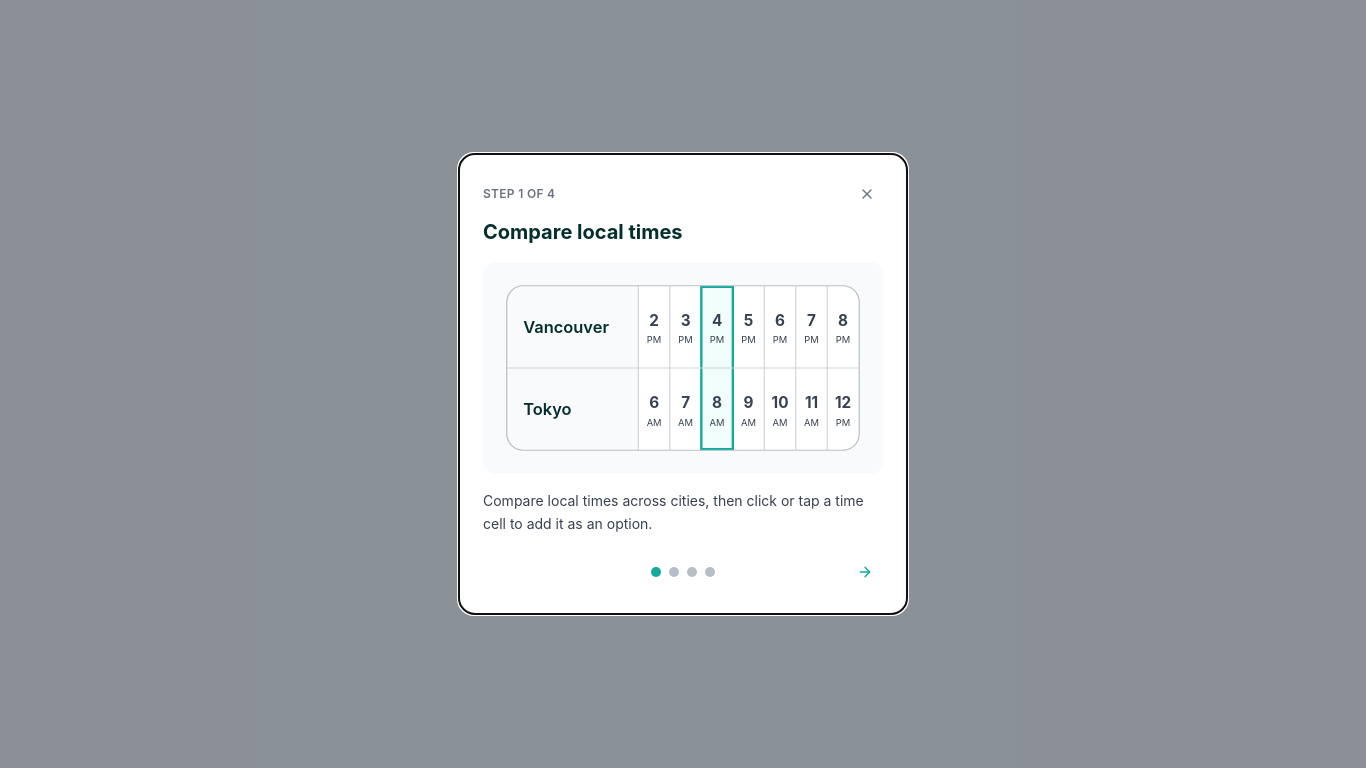
Test: HowItWorksModal › moves between steps with the navigation buttons
Expected: the dialog "Compare local times" is shown, [459, 154, 907, 614]
Expected: the text "Compare local times across cities, then click or tap a time cell to add it as an option." is shown, [483, 492, 864, 532]
Click the button named "Next step".
click(865, 572)  # box [847, 554, 883, 590]
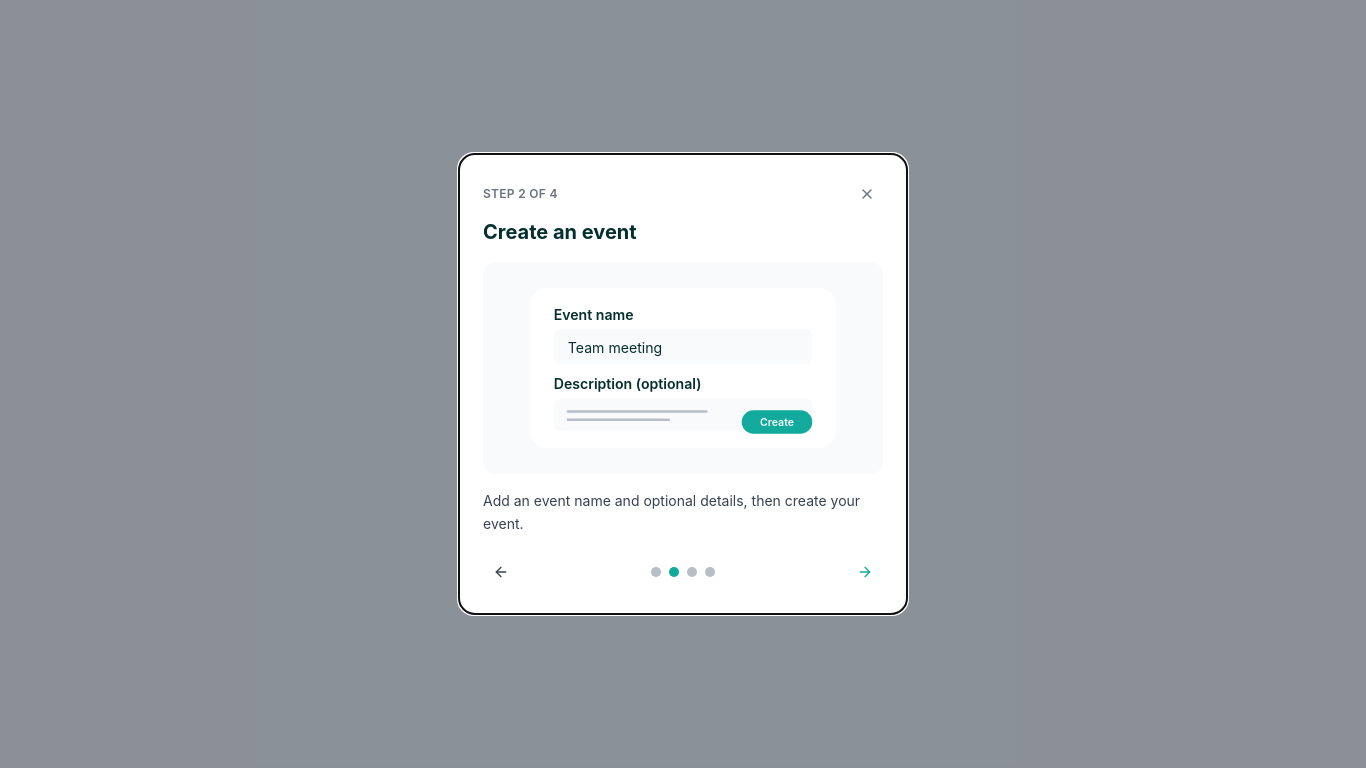
Expected: the text "Event name" is shown, [554, 306, 634, 323]
Expected: the dialog "Create an event" is shown, [459, 154, 907, 614]
Expected: the text "Add an event name and optional details, then create your event." is shown, [483, 490, 883, 538]
Click the button named "Next step".
click(865, 572)  # box [847, 554, 883, 590]
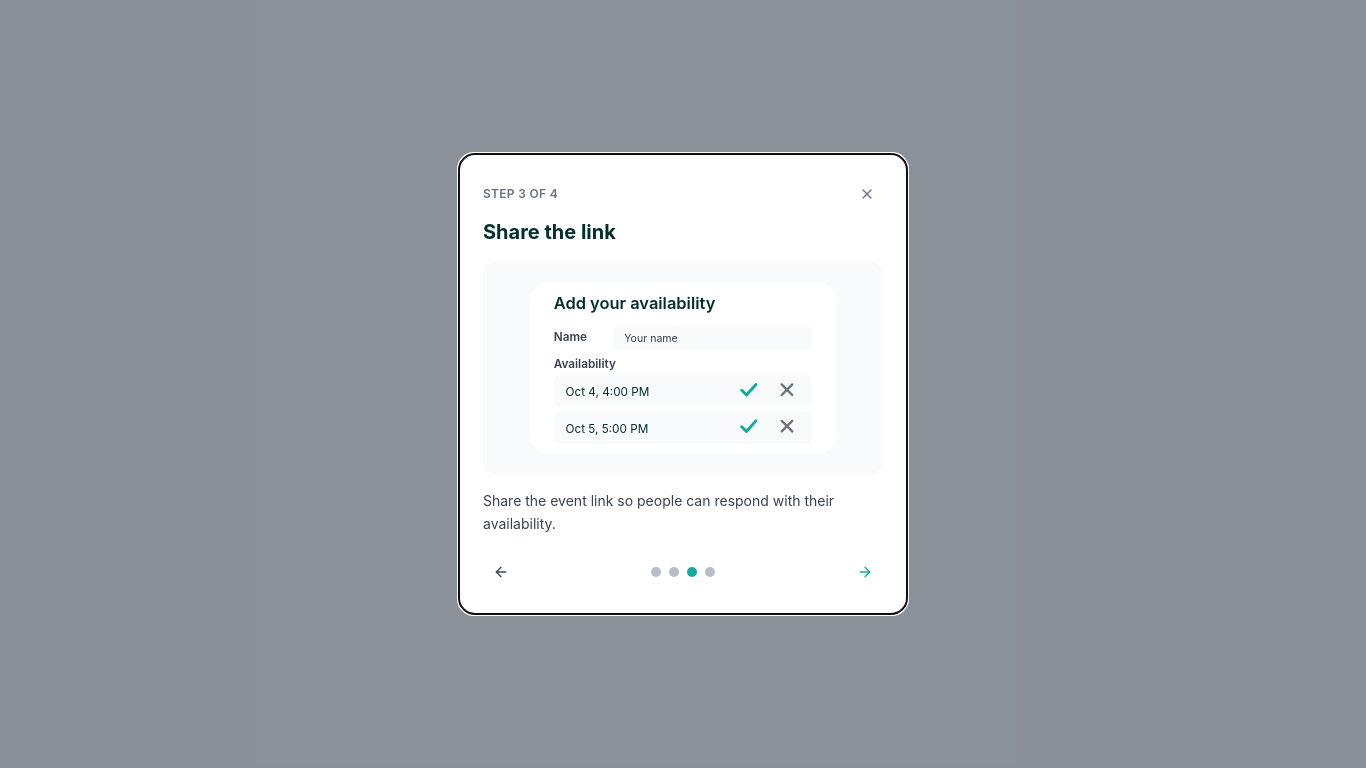
Expected: the text "Add your availability" is shown, [554, 293, 716, 313]
Expected: the dialog "Share the link" is shown, [459, 154, 907, 614]
Expected: the text "Share the event link so people can respond with their availability." is shown, [483, 490, 883, 538]
Click the button named "Next step".
click(865, 572)  # box [847, 554, 883, 590]
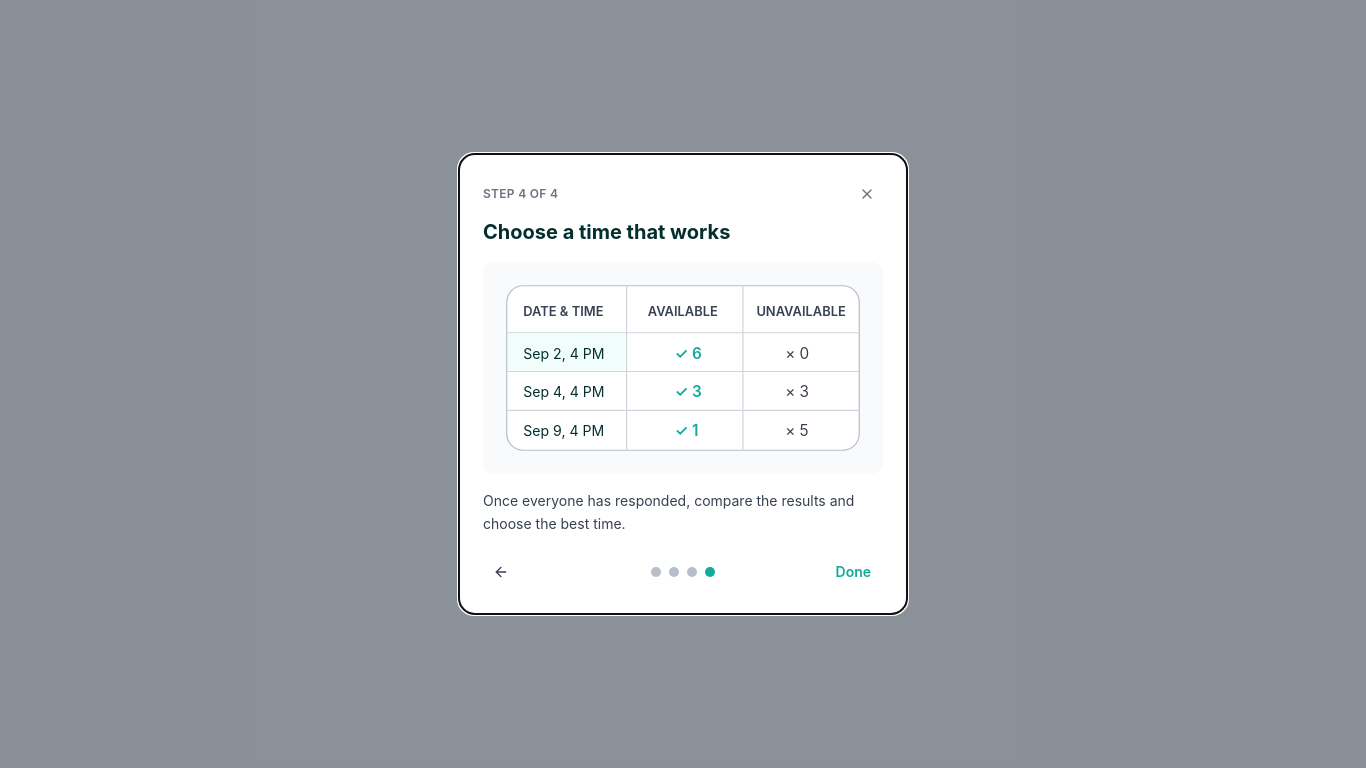
Expected: the dialog "Choose a time that works" is shown, [459, 154, 907, 614]
Click the button named "Previous step".
click(501, 572)  # box [483, 554, 519, 590]
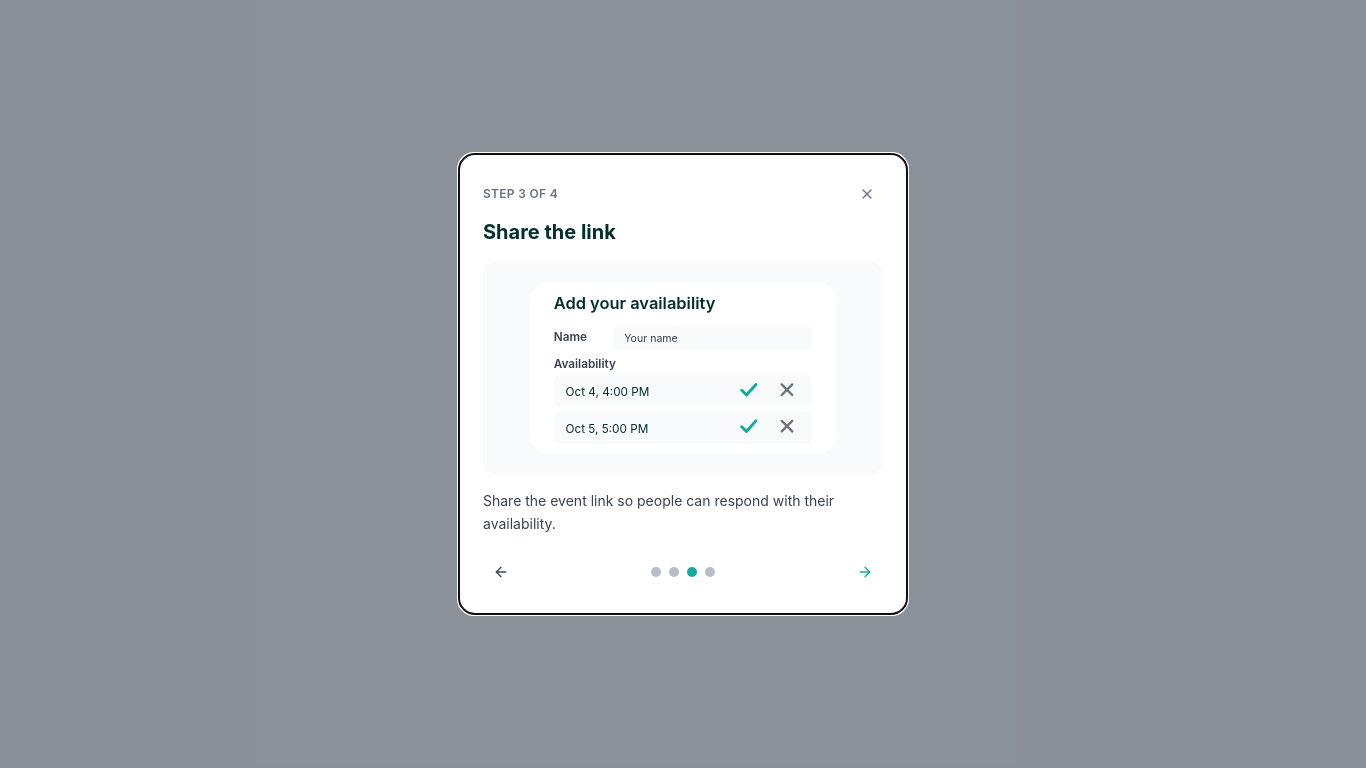
Expected: the dialog "Share the link" is shown, [459, 154, 907, 614]
Click the button named "Go to step 4".
click(710, 572)  # box [705, 567, 715, 577]
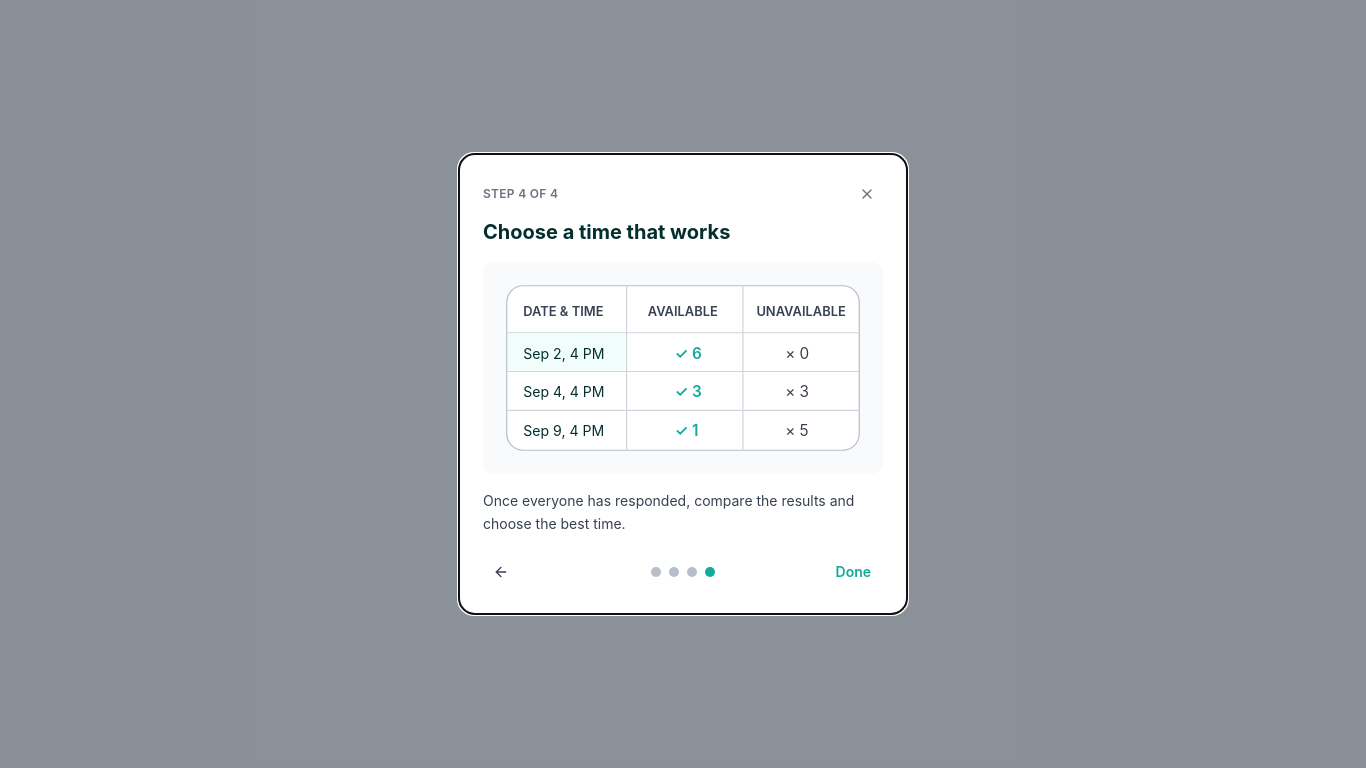
Expected: the dialog "Choose a time that works" is shown, [459, 154, 907, 614]
Expected: the text "Once everyone has responded, compare the results and choose the best time." is shown, [483, 490, 883, 538]
